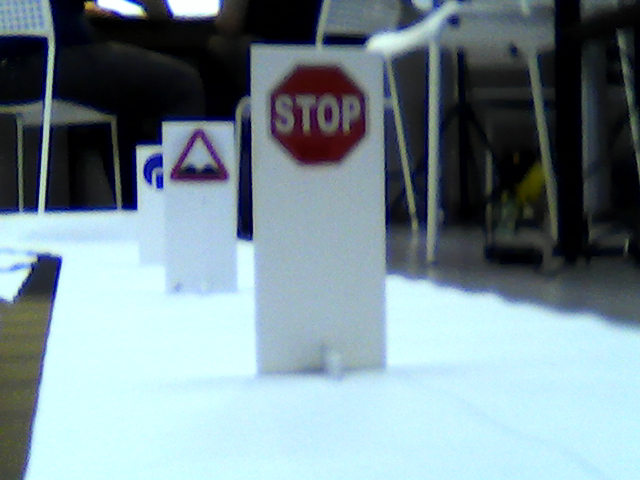Nerov: (171, 131, 229, 183)
Stop: (265, 59, 368, 164)
